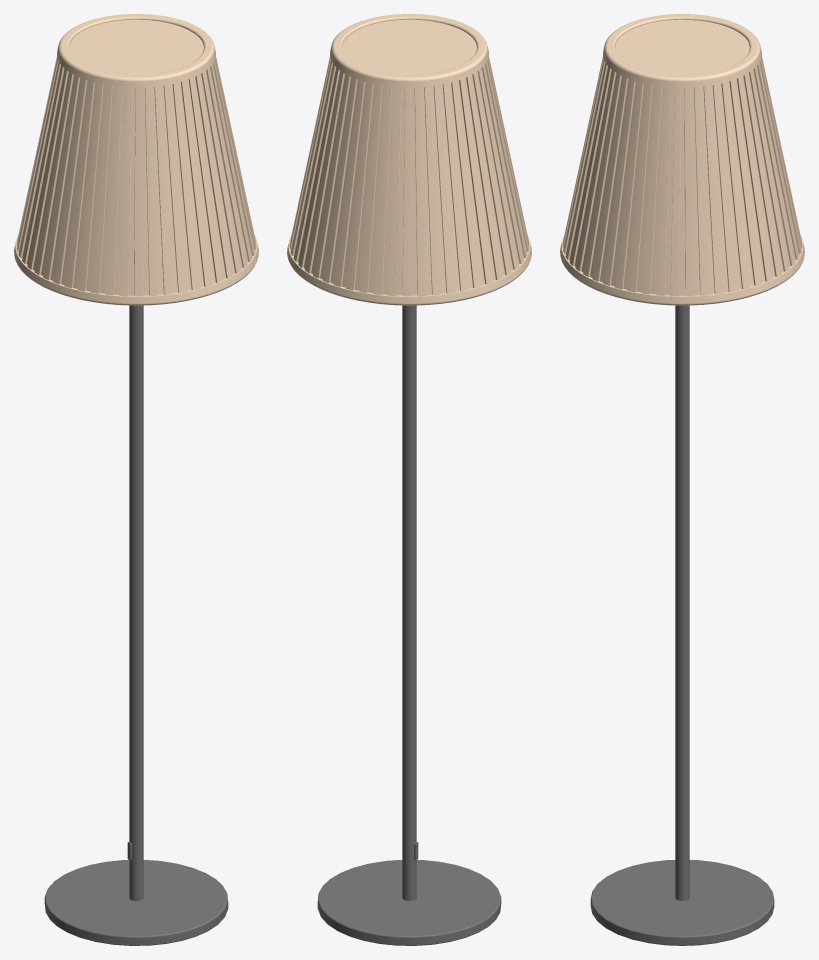
Rendered from lamp_1.glb.
3 renders of one model, left to right at view 1: azimuth 30°, elevation 25°; view 2: azimuth 150°, elevation 25°; view 3: azimuth 270°, elevation 25°, orthographic.
Visible parts, largest first — view 1: IKE160157.001; view 2: IKE160157.001; view 3: IKE160157.001.
Part boxes in pixels (x1,y1,x2,y2): IKE160157.001: (14,14,258,945); IKE160157.001: (287,14,531,945); IKE160157.001: (560,14,804,945).
Bounding box in the file's own units: 34 × 132 × 34.
